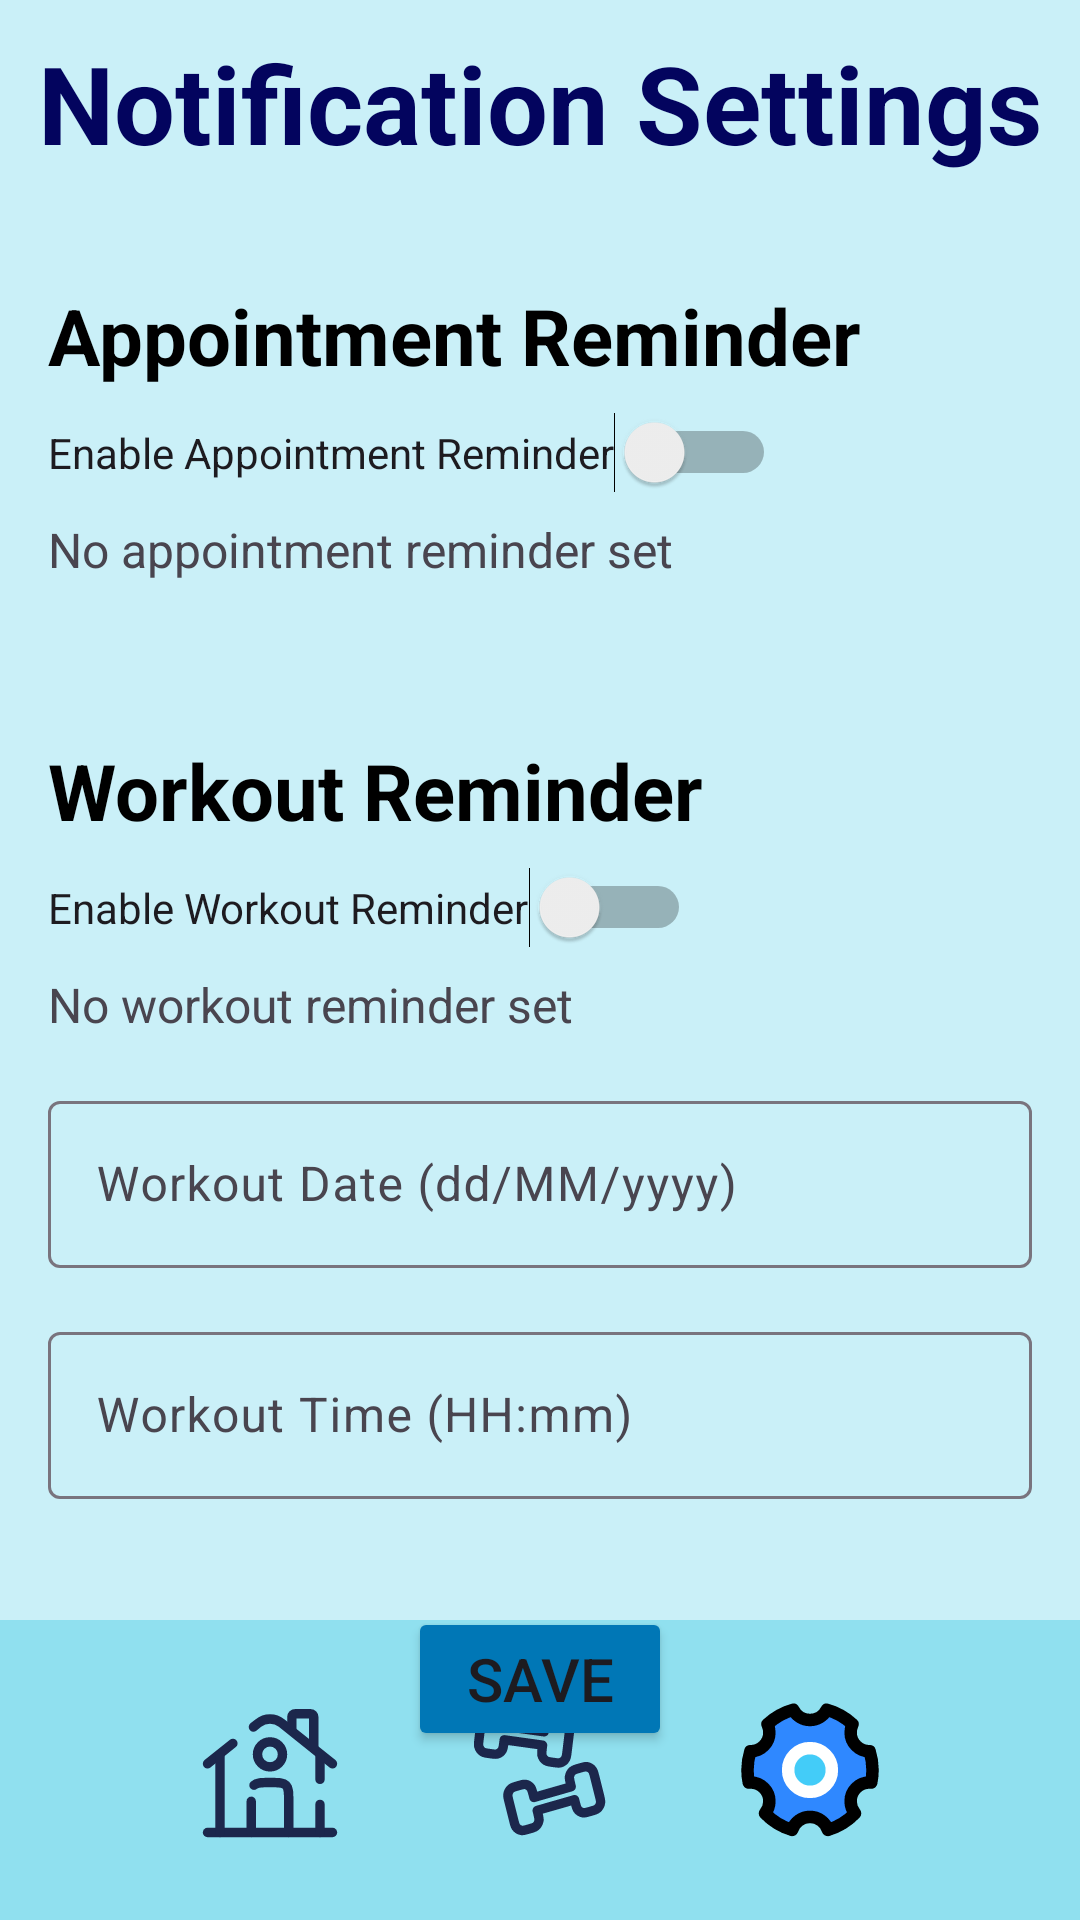

Point at icon controls on the screen. Image size 1080px x 1920px, points as (x=x, y=y).
home: (x=270, y=1773)
setting: (x=810, y=1770)
